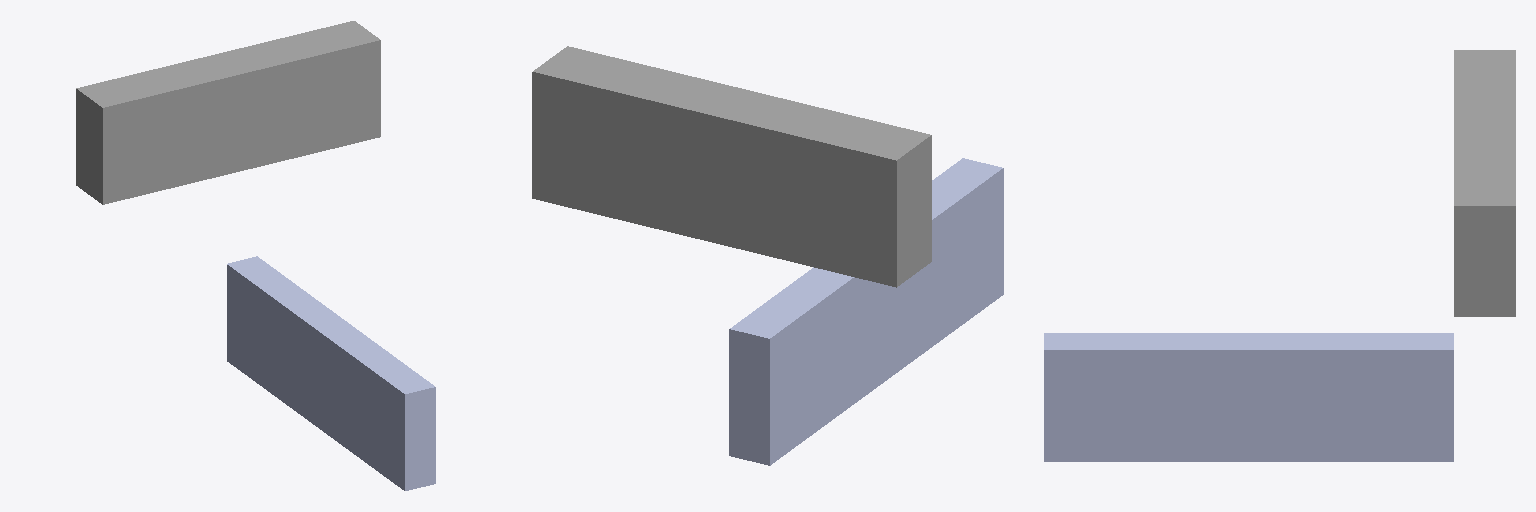
URDF robot description (robot):
<?xml version="1.0" encoding="utf-8"?>
<!-- This URDF was automatically created by SolidWorks to URDF Exporter! Originally created by [author] ([email redacted]) 
     Commit Version: 1.6.0-4-g7f85cfe  Build Version: 1.6.7995.38578
     For more information, please see http://wiki.ros.org/sw_urdf_exporter -->
<robot
  name="robot">
  <link
    name="body_link">
    <inertial>
      <origin
        xyz="-6.2624E-18 -1.9895E-17 -3.2679E-19"
        rpy="0 0 0" />
      <mass
        value="0.972" />
      <inertia
        ixx="0.0026973"
        ixy="4.4261E-20"
        ixz="2.5292E-21"
        iyy="0.0003645"
        iyz="-2.5316E-20"
        izz="0.002916" />
    </inertial>
    <visual>
      <origin
        xyz="0 0 0"
        rpy="0 0 0" />
      <geometry>
        <mesh
          filename="package://robot/meshes/body_link.STL" />
      </geometry>
      <material
        name="">
        <color
          rgba="0.69804 0.69804 0.69804 1" />
      </material>
    </visual>
    <collision>
      <origin
        xyz="0 0 0"
        rpy="0 0 0" />
      <geometry>
        <mesh
          filename="package://robot/meshes/body_link.STL" />
      </geometry>
    </collision>
  </link>
  <link
    name="rod_link">
    <inertial>
      <origin
        xyz="-3.8548E-18 3.6953E-18 -1.3878E-17"
        rpy="0 0 0" />
      <mass
        value="0.24" />
      <inertia
        ixx="0.000808"
        ixy="-3.9104E-21"
        ixz="-3.2255E-20"
        iyy="0.000872"
        iyz="-2.4668E-20"
        izz="8E-05" />
    </inertial>
    <visual>
      <origin
        xyz="0 0 0"
        rpy="0 0 0" />
      <geometry>
        <mesh
          filename="package://robot/meshes/rod_link.STL" />
      </geometry>
      <material
        name="">
        <color
          rgba="0.79216 0.81961 0.93333 1" />
      </material>
    </visual>
    <collision>
      <origin
        xyz="0 0 0"
        rpy="0 0 0" />
      <geometry>
        <mesh
          filename="package://robot/meshes/rod_link.STL" />
      </geometry>
    </collision>
  </link>
  <joint
    name="body_rod_joint"
    type="continuous">
    <origin
      xyz="0 0 -0.115"
      rpy="0 0 0" />
    <parent
      link="body_link" />
    <child
      link="rod_link" />
    <axis
      xyz="-1 0 0" />
  </joint>
  <link
    name="wheel_link">
    <inertial>
      <origin
        xyz="-3.1898E-18 0 0"
        rpy="0 0 0" />
      <mass
        value="0.47124" />
      <inertia
        ixx="0.00058905"
        ixy="4.6673E-23"
        ixz="1.3658E-22"
        iyy="0.0004359"
        iyz="0"
        izz="0.0004359" />
    </inertial>
    <visual>
      <origin
        xyz="0 0 0"
        rpy="0 0 0" />
      <geometry>
        <mesh
          filename="package://robot/meshes/wheel_link.STL" />
      </geometry>
      <material
        name="">
        <color
          rgba="0.79216 0.81961 0.93333 1" />
      </material>
    </visual>
    <collision>
      <origin
        xyz="0 0 0"
        rpy="0 0 0" />
      <geometry>
        <mesh
          filename="package://robot/meshes/wheel_link.STL" />
      </geometry>
    </collision>
  </link>
  <joint
    name="rod_wheel_joint"
    type="continuous">
    <origin
      xyz="0 0 -0.1"
      rpy="0 0 0" />
    <parent
      link="rod_link" />
    <child
      link="wheel_link" />
    <axis
      xyz="-1 0 0" />
  </joint>
</robot>

--- What the picture shows (computed from the rendered views, not written in the file) ---
3 views of the same robot in one strip: view 1: azimuth 30°, elevation 25°; view 2: azimuth 150°, elevation 25°; view 3: azimuth 270°, elevation 25° (orthographic).
Model robot with 3 links and 2 joints (2 continuous), rooted at body_link, posed every joint at zero.
Links seen in each view (by area): view 1: body_link, rod_link; view 2: body_link, rod_link; view 3: rod_link, body_link.
Boxes of the visible links, x1,y1,x2,y2 form: body_link: (76,21,380,204); rod_link: (227,256,435,490); body_link: (532,46,931,287); rod_link: (729,158,1003,465); rod_link: (1044,333,1453,461); body_link: (1454,50,1515,316).
Bounding box of the posed robot: 0.18 × 0.23 × 0.175 m (x, y, z).
Meshes: 3 distinct files referenced, 2 mesh visuals loaded (2 binary STL); not drawn: 1 (reference not matched to a file when rendering).